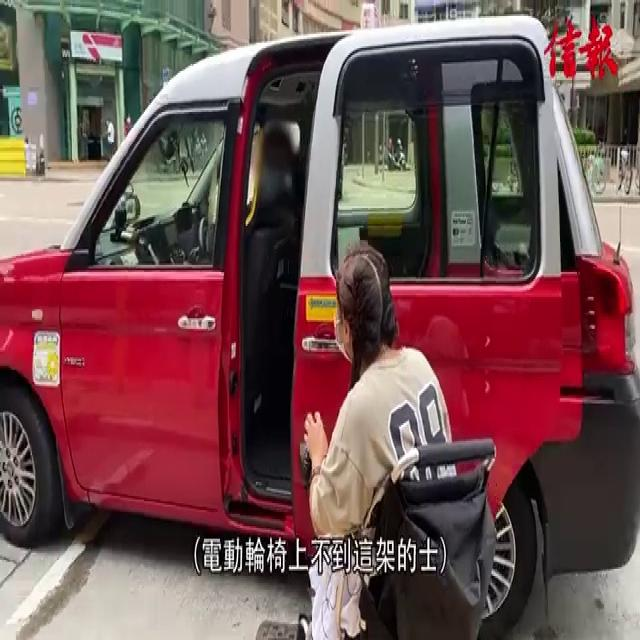wheelchairs: (300, 367, 519, 640)
